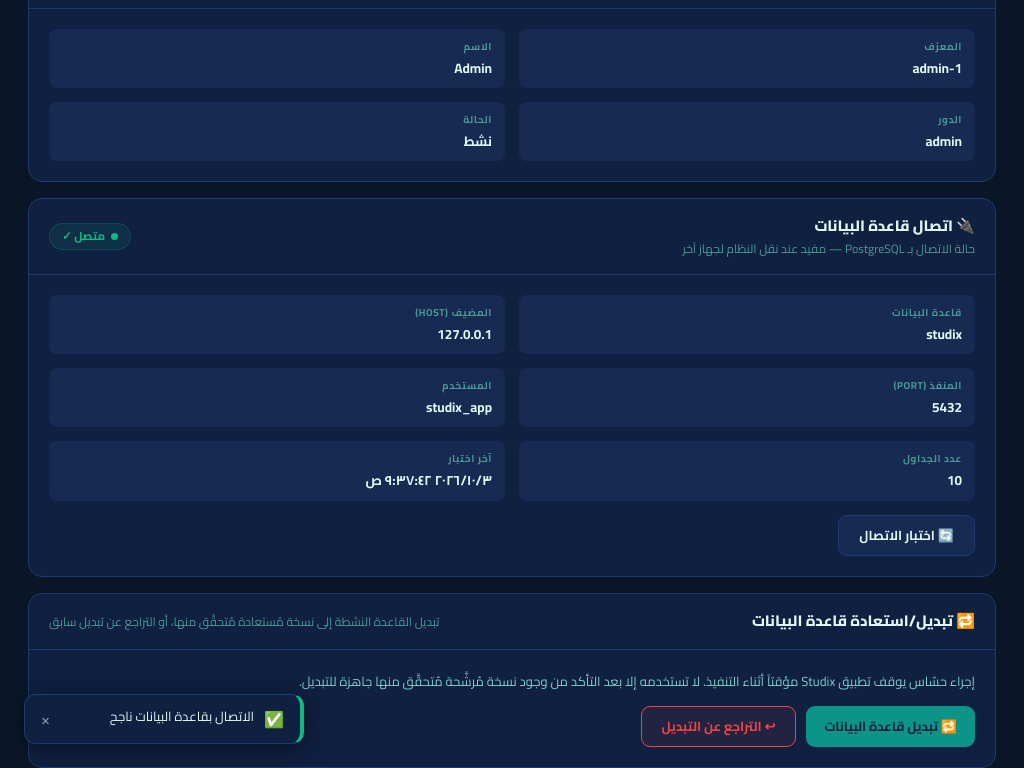
Test case: SettingsPage — database switch/rollback UI (point B — request shape / confirmation) › clicking "rollback" opens a distinct confirmation dialog
The width and height of the screenshot is (1024, 768).
(page scrolled)
Click the button "↩ التراجع عن التبديل".
click(718, 726)  # box [641,706,796,747]
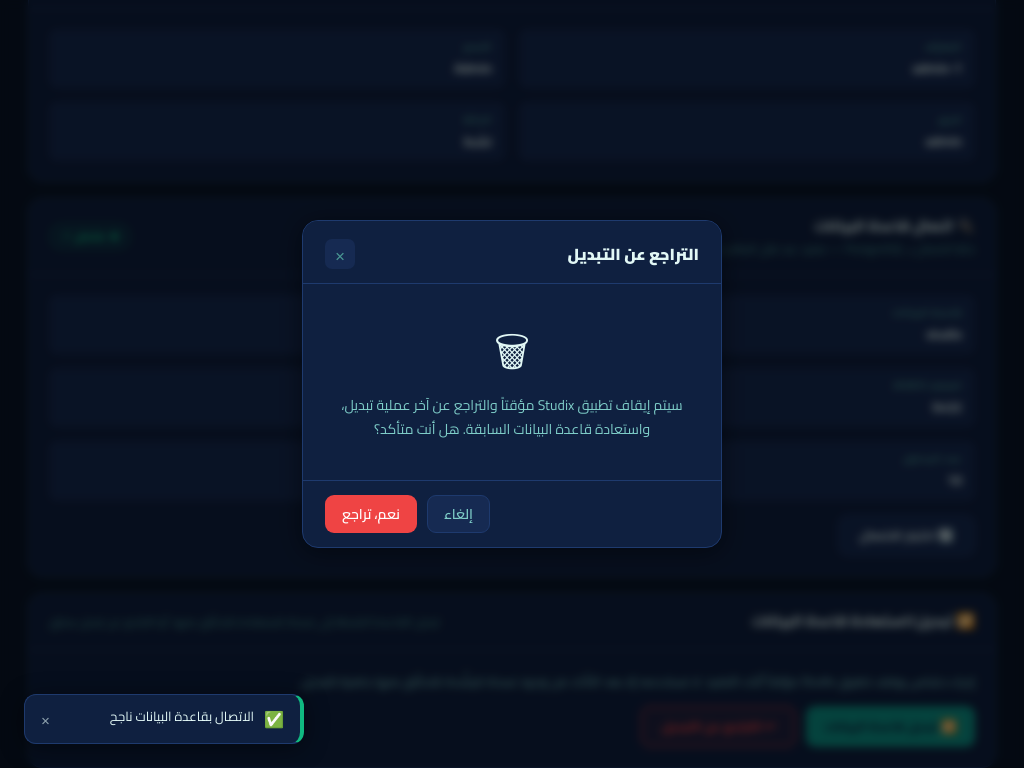
Expected: the text "التراجع عن التبديل" is shown, [568,242,699,266]
